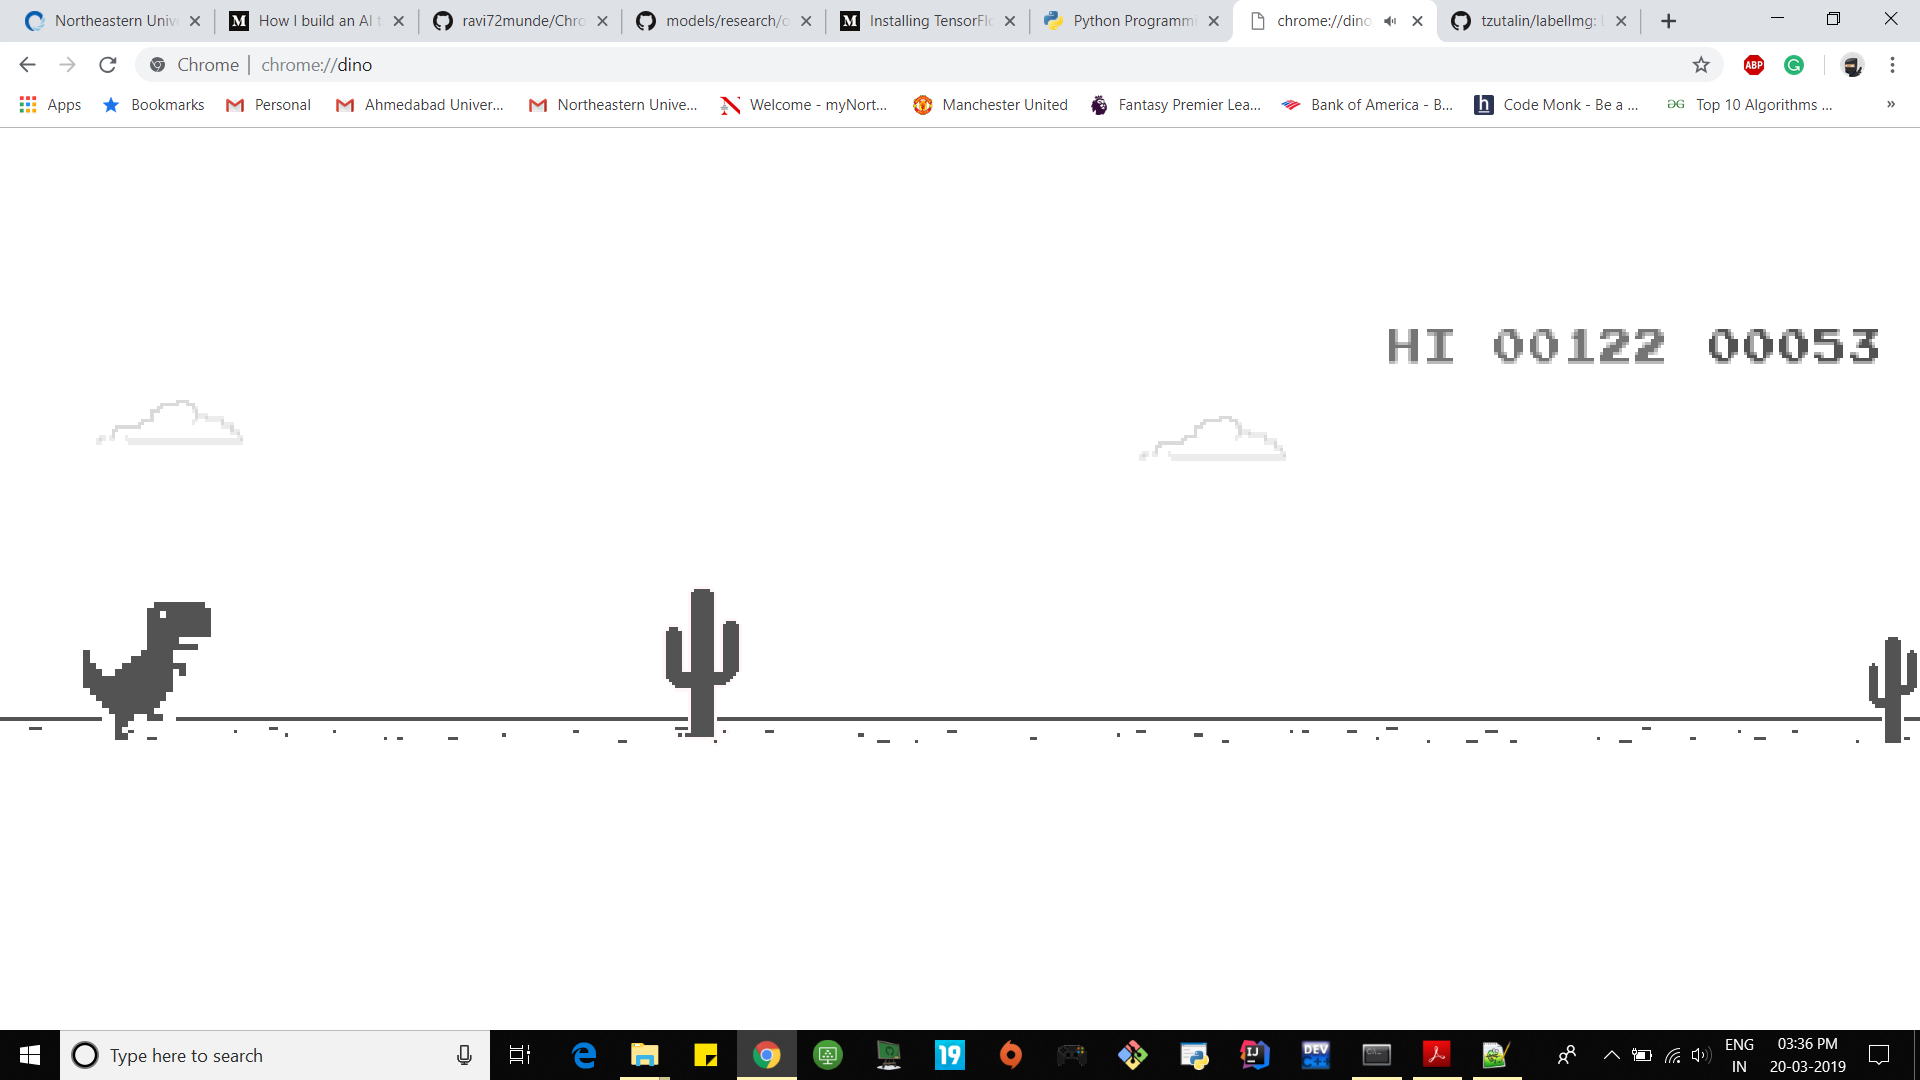cactus-1: (661, 582, 744, 736)
cactus-small: (1865, 636, 1915, 745)
dino: (79, 597, 212, 741)
